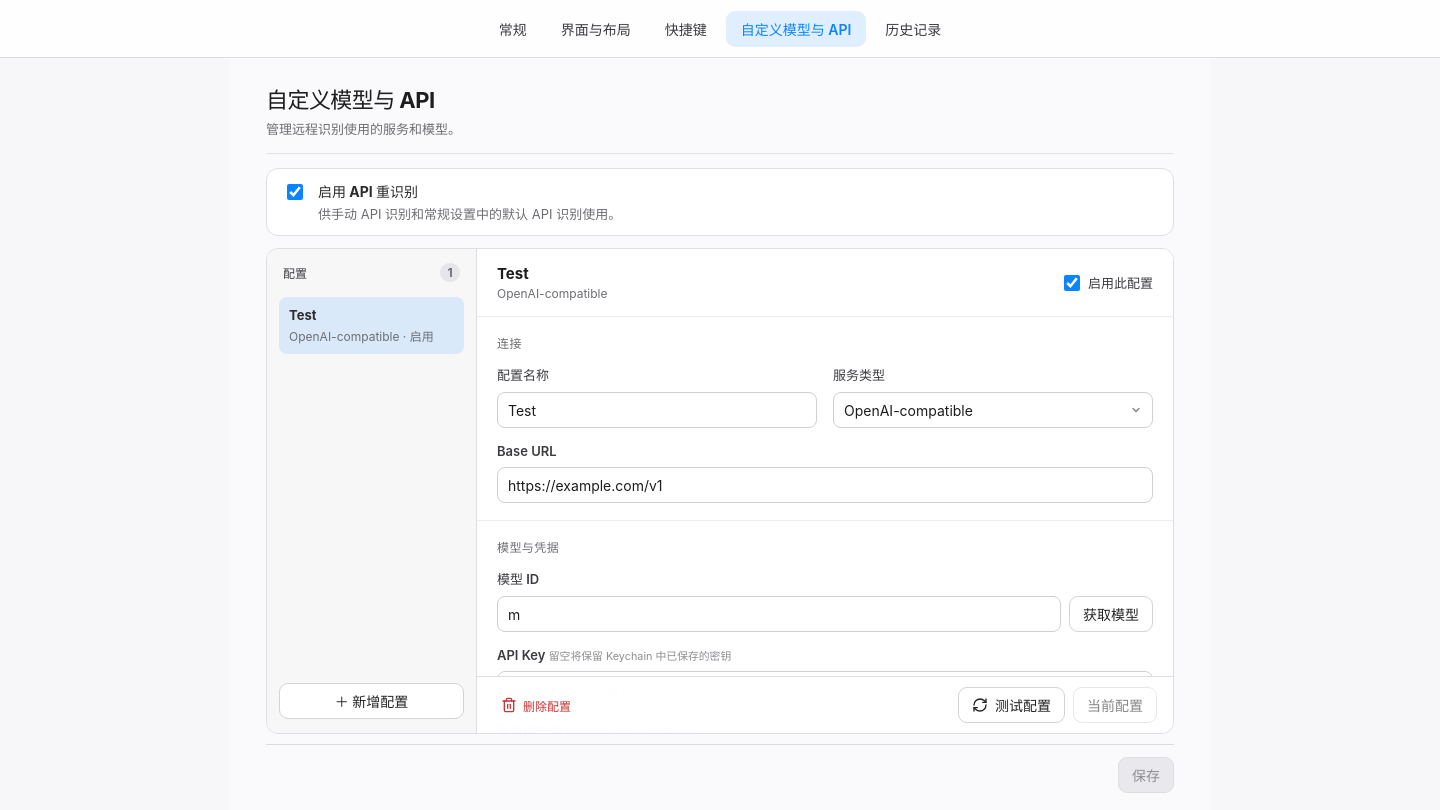
Test case: settings interaction › discards delayed test success and clears previously fetched models after same-profile edits
Expected: the element that starts with "启用 API 重识别" is enabled, [266,154,1174,744]
Click the button "获取模型": (1111, 614) [1069,596,1153,632]
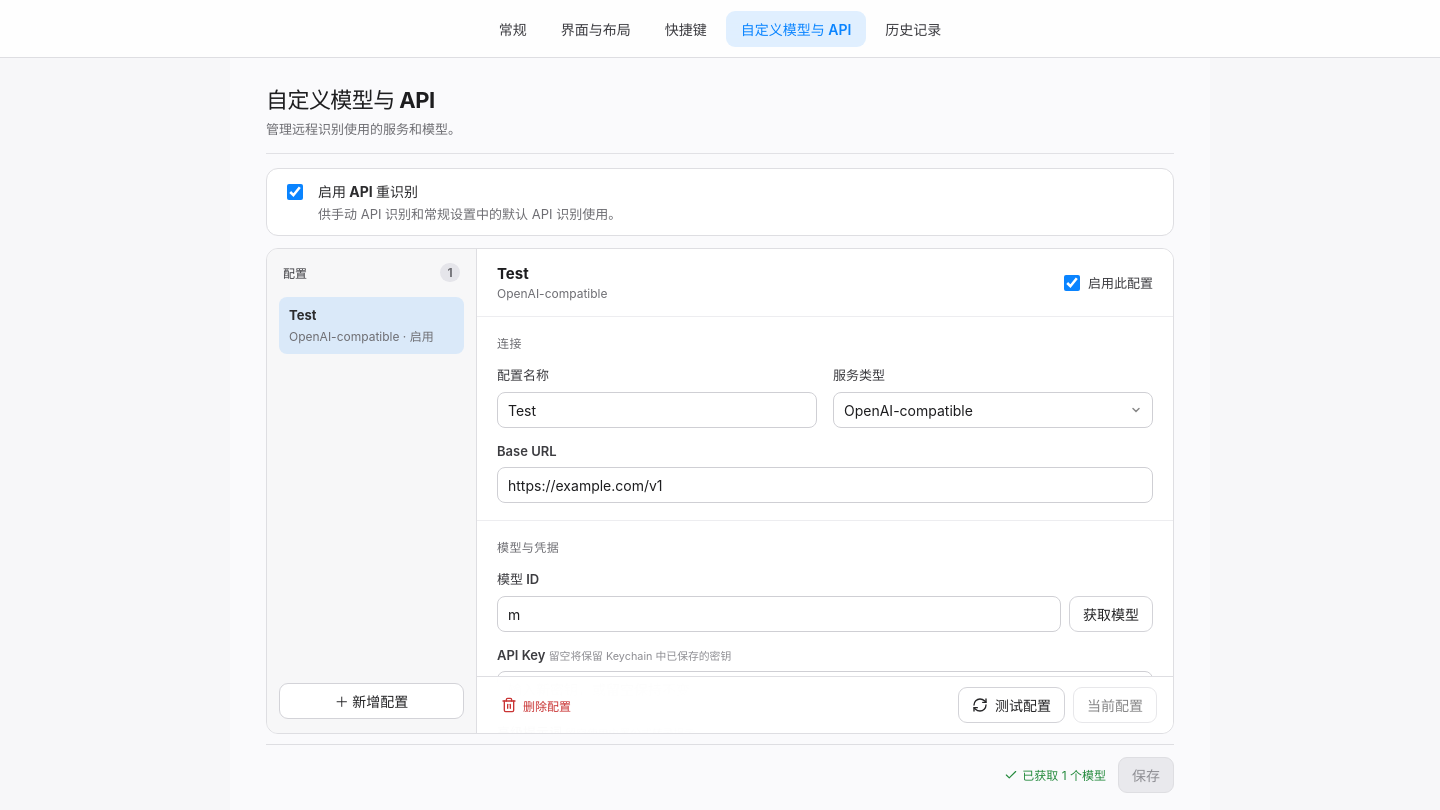
Now the text "已获取 1 个模型" is shown, box [1004,766,1106,783]
Click the button "测试配置": (1012, 705) [958,687,1065,723]
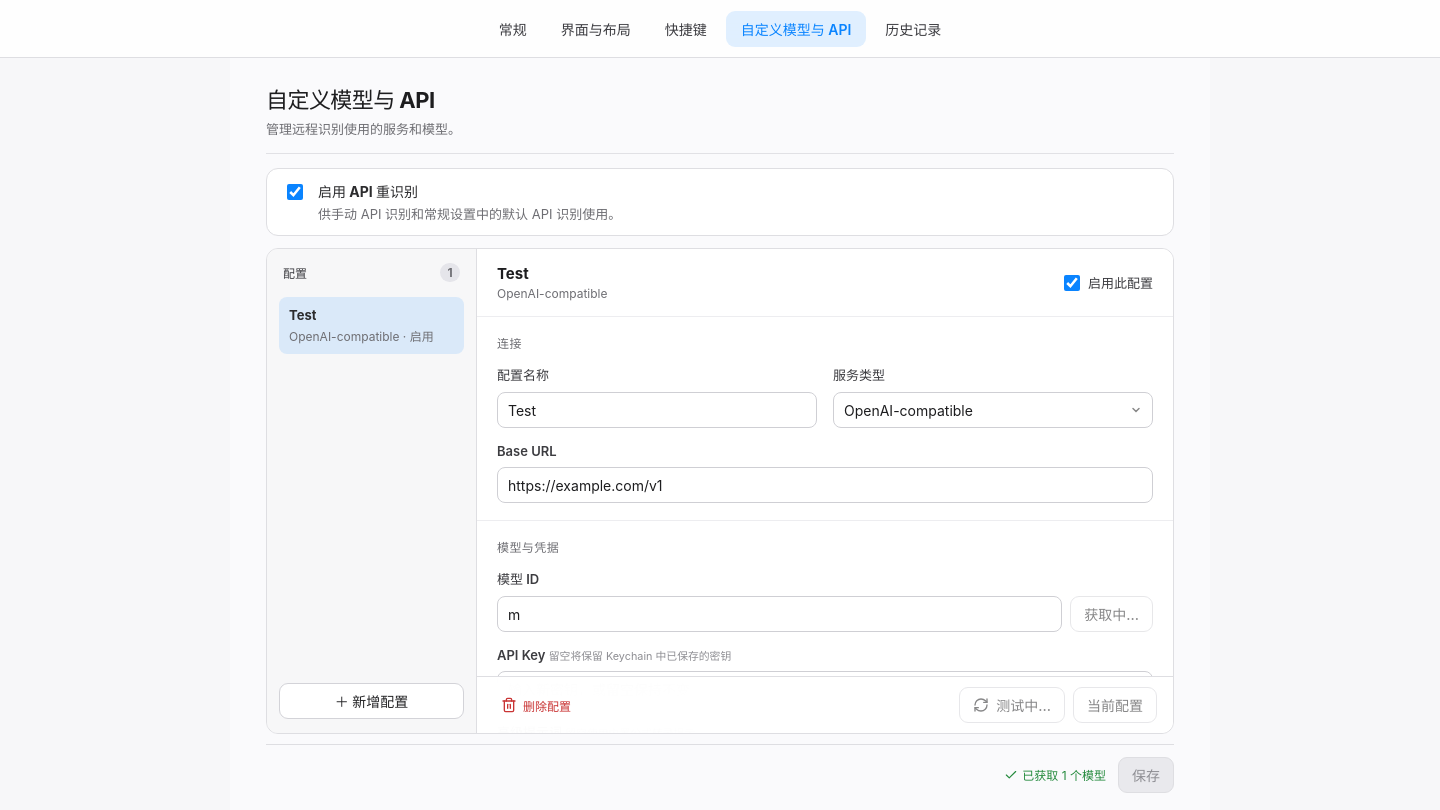
Replace the text in the field labelled "模型 ID" with "different-model": (780, 614) [497,596,1062,632]
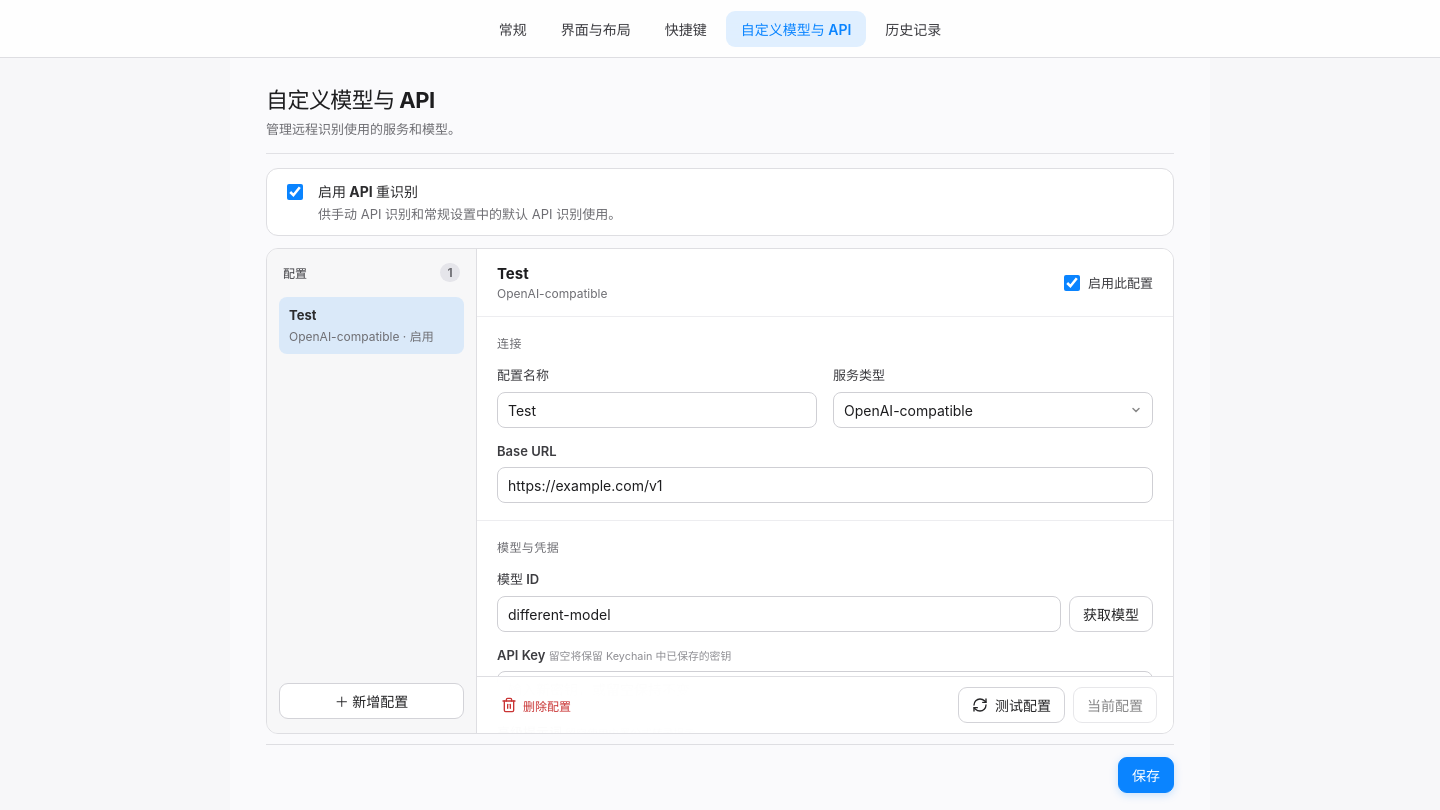
Now the text "已获取 1 个模型" is gone
